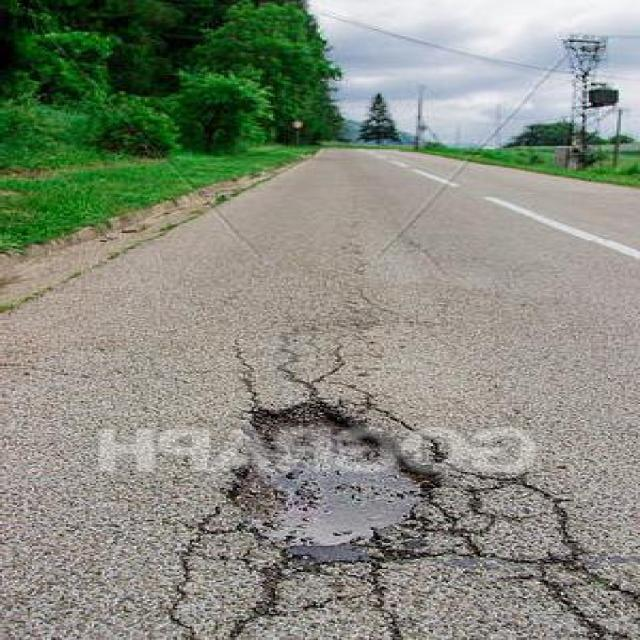pothole: (220, 396, 448, 564)
